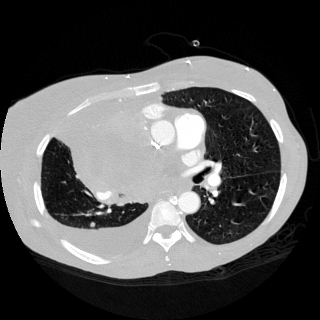nodule: (89, 221, 95, 227)
